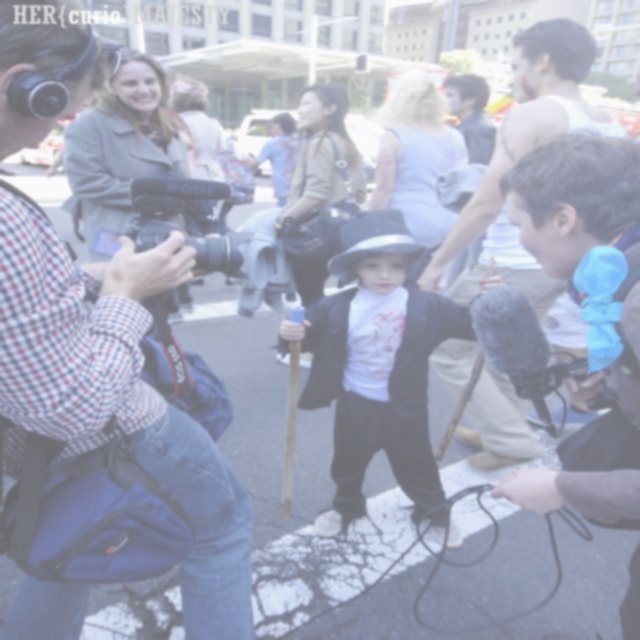pessoa: (0, 0, 257, 640), (411, 14, 628, 474), (463, 126, 640, 640), (268, 208, 510, 550), (270, 83, 372, 371), (66, 51, 188, 263), (364, 68, 472, 290), (163, 76, 228, 185), (240, 111, 304, 210), (442, 72, 498, 166), (215, 132, 258, 236), (41, 147, 69, 180), (220, 125, 240, 164), (618, 112, 640, 144)
